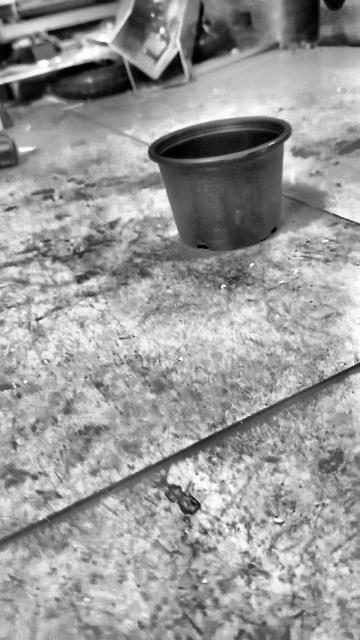pot: (150, 117, 291, 252)
